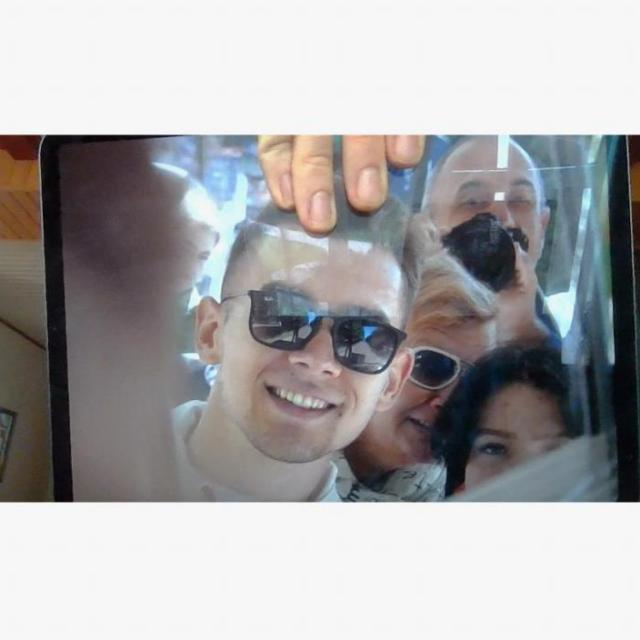device: (36, 133, 634, 500)
